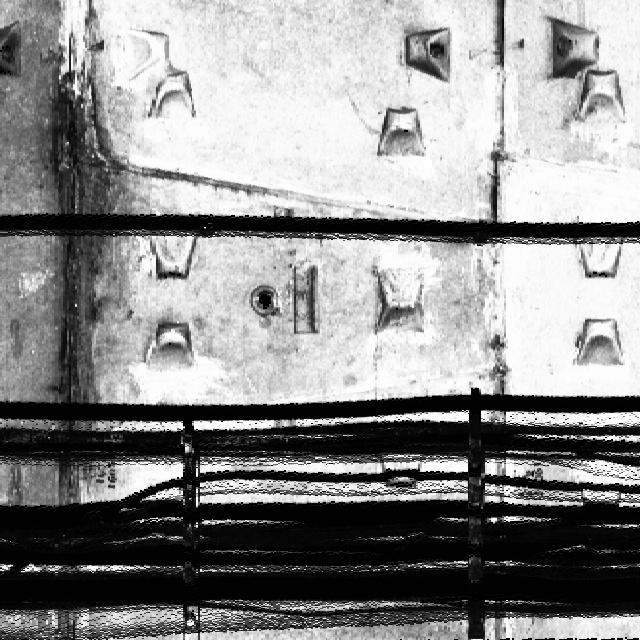leakage: (29, 0, 135, 400)
